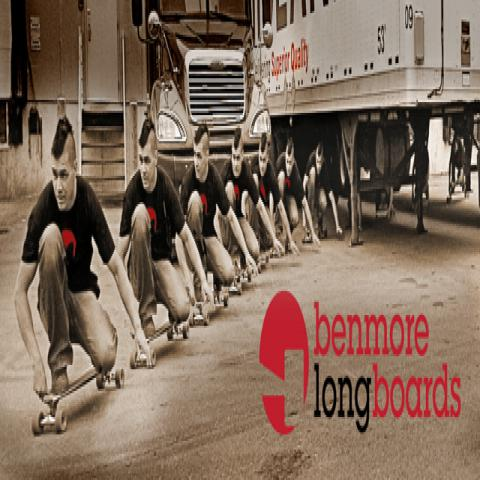truck: (255, 1, 480, 251), (147, 1, 272, 194)
